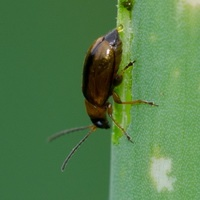insect: (48, 24, 156, 170)
